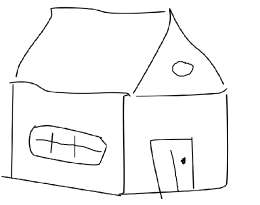big_house: (0, 0, 256, 200)
closed_window: (19, 116, 113, 169)
door: (143, 129, 205, 200)
roof: (8, 3, 236, 103)
wall: (119, 84, 233, 197)
